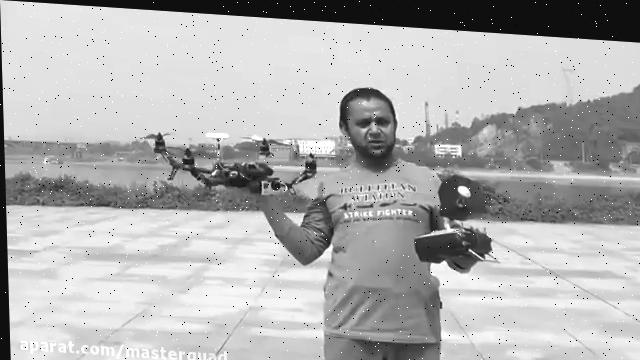drone: (134, 120, 321, 207)
